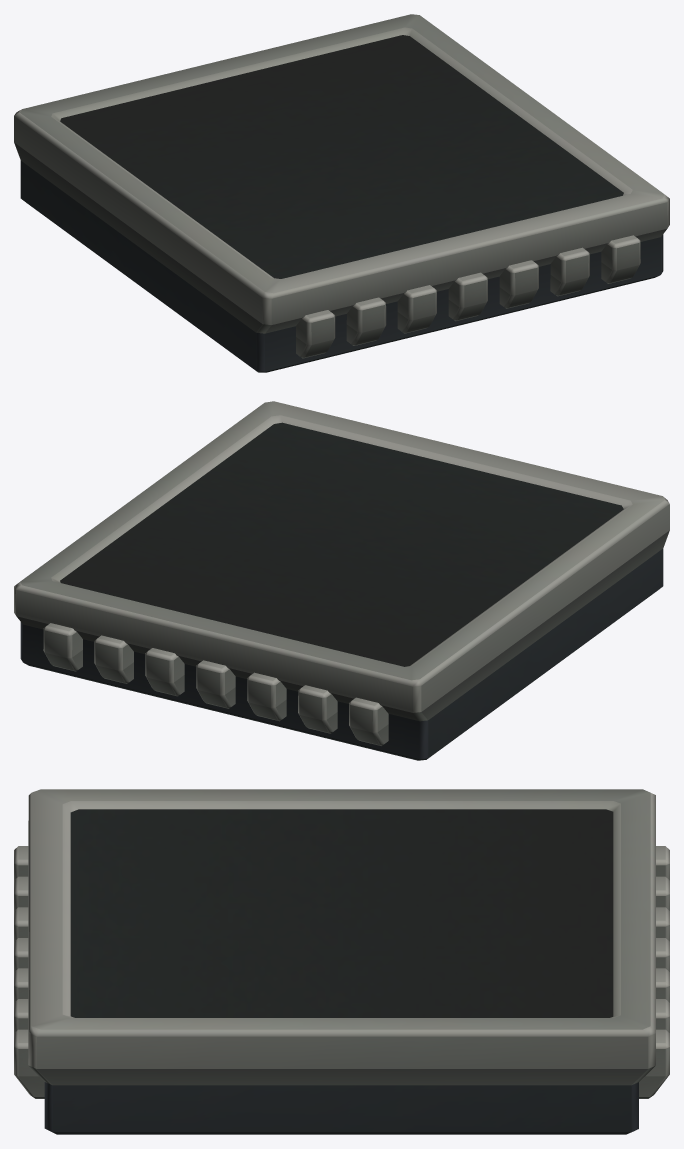
The model's file is appartment_type1_roof_type2_x4_flat_cream.fbx.
The picture shows the model from 3 angles, top to bottom: view 1: azimuth 30°, elevation 25°; view 2: azimuth 150°, elevation 25°; view 3: azimuth 270°, elevation 25°; orthographic projection. The views are drawn at different scales.
Visible parts, largest first — view 1: appartment_type1_roof_type2_x4_flat_cream; view 2: appartment_type1_roof_type2_x4_flat_cream; view 3: appartment_type1_roof_type2_x4_flat_cream.
Boxes of the visible parts, left/top/right/bottom form: appartment_type1_roof_type2_x4_flat_cream: left=14, top=14, right=669, bottom=372; appartment_type1_roof_type2_x4_flat_cream: left=14, top=401, right=669, bottom=760; appartment_type1_roof_type2_x4_flat_cream: left=14, top=789, right=669, bottom=1134.
Size of the model in its own units: 800 by 160 by 907.
